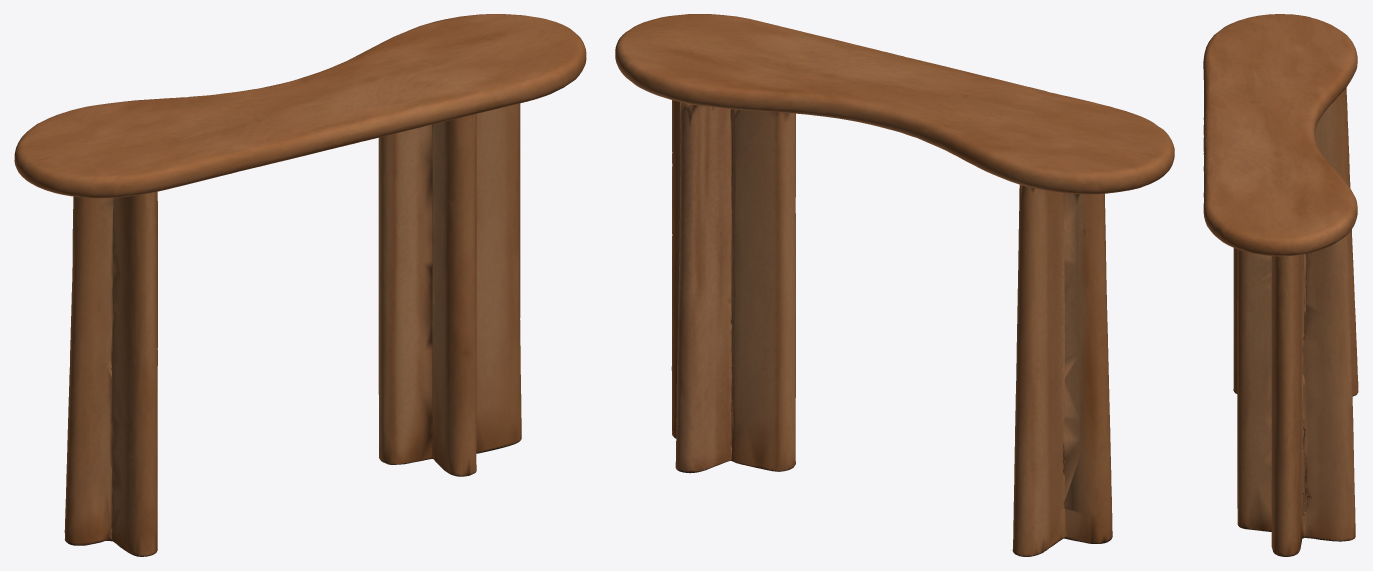
The model's file is oak-sculptural-console.glb.
The picture shows the model from 3 angles, left to right: view 1: azimuth 30°, elevation 25°; view 2: azimuth 150°, elevation 25°; view 3: azimuth 270°, elevation 25°; orthographic projection. The views are drawn at different scales.
Parts seen in each view (by area): view 1: world; view 2: world; view 3: world.
Part boxes in pixels (x1,y1,x2,y2): world: (14,14,586,556); world: (615,14,1174,556); world: (1203,14,1358,556).
Size of the model in its own units: 1 by 0.6891 by 0.2856.
1 material, 1 textured.
